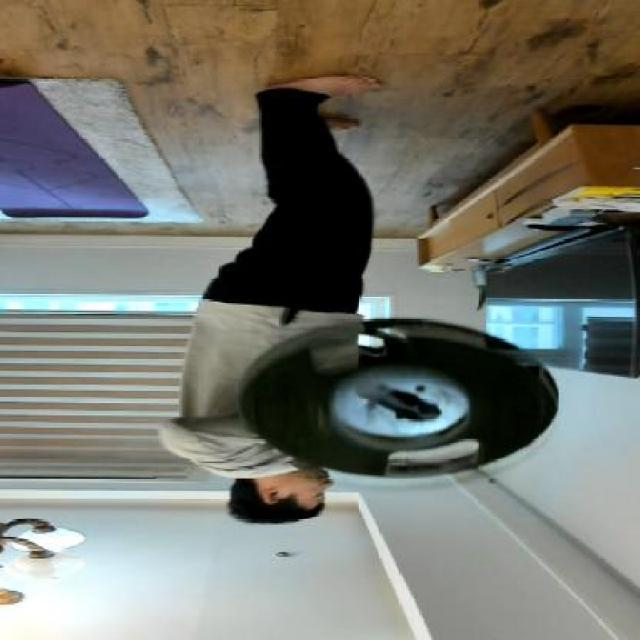Barbell: (396, 401, 442, 422)
